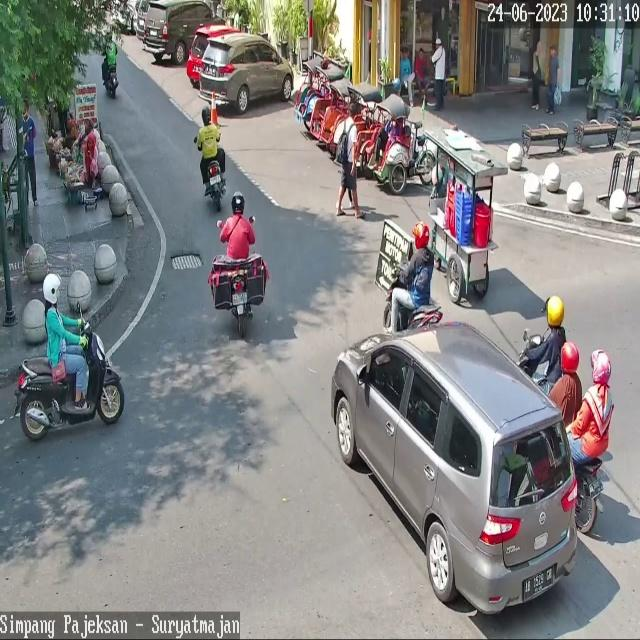bus: (15, 319, 124, 440), (382, 259, 443, 327), (580, 456, 605, 534), (229, 273, 255, 331), (520, 330, 547, 374), (204, 158, 226, 210), (105, 64, 122, 97)
motorcycle: (329, 321, 579, 614), (200, 32, 294, 113), (144, 0, 225, 64), (186, 24, 243, 80)
